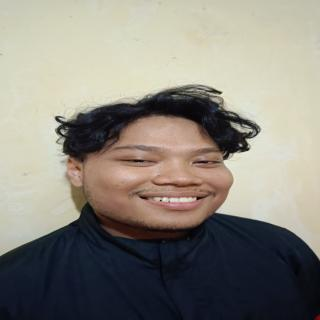Senang: (74, 110, 236, 231)
